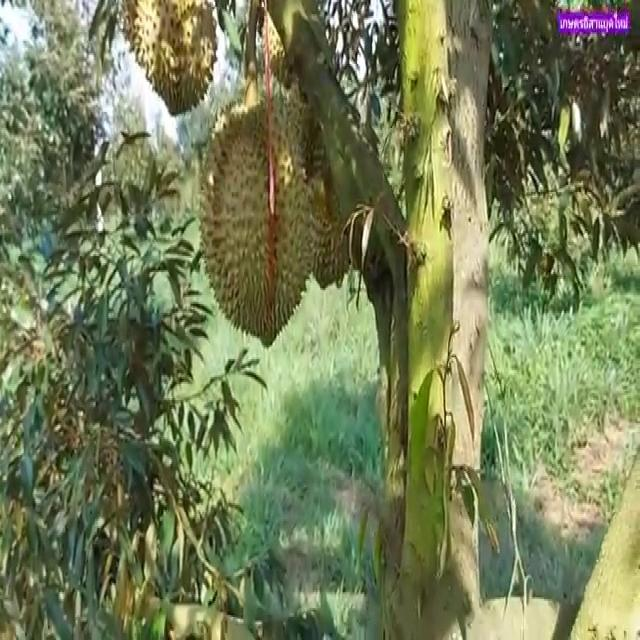durian: (197, 96, 314, 355), (122, 0, 220, 119), (298, 160, 375, 298)
